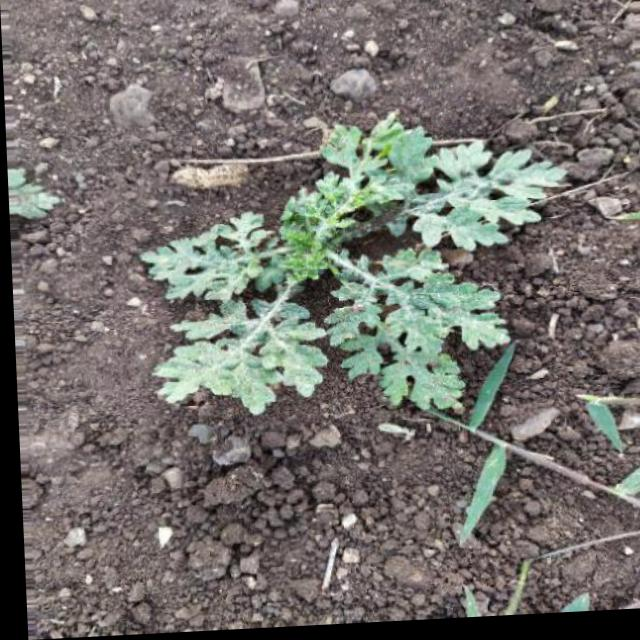weed: (129, 102, 575, 422)
